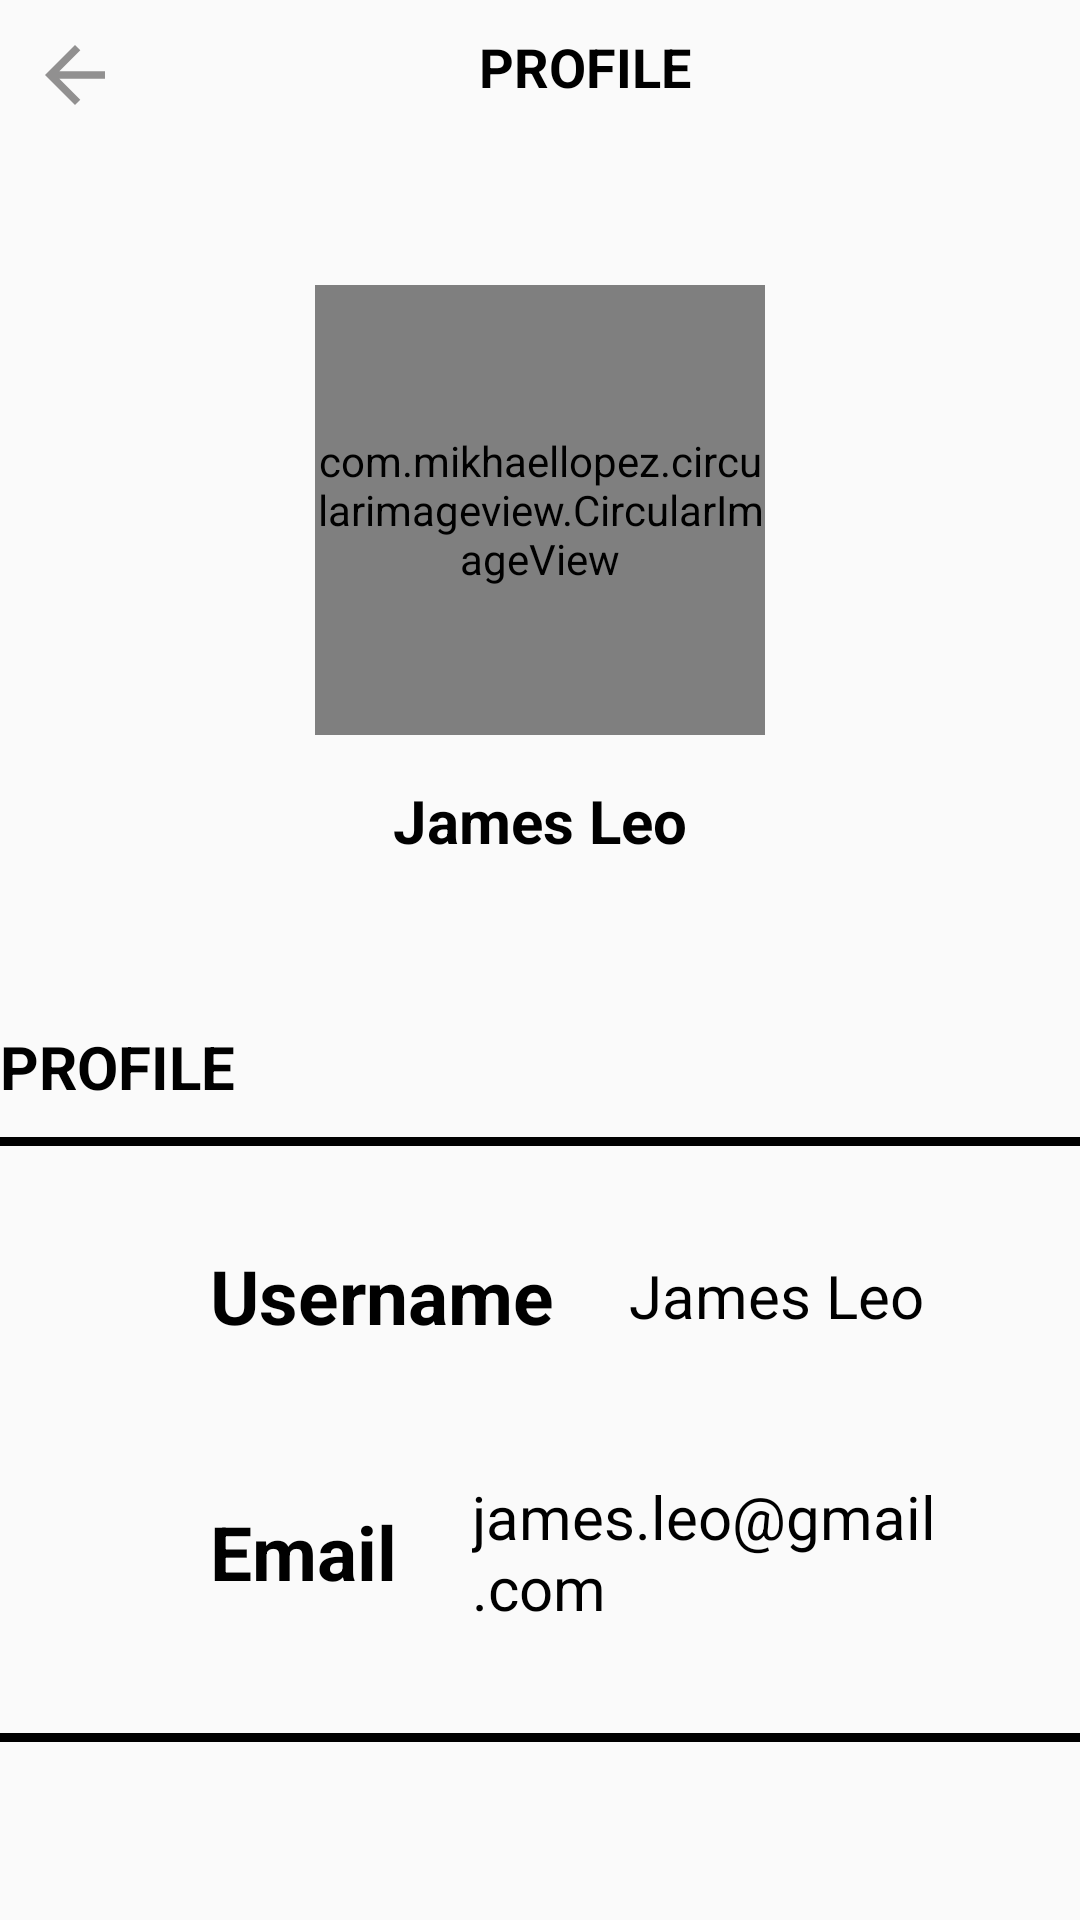

Where to tap for icons on this 1080px x 1920px app screen, as (x,y):
arrow back: (75,75)
